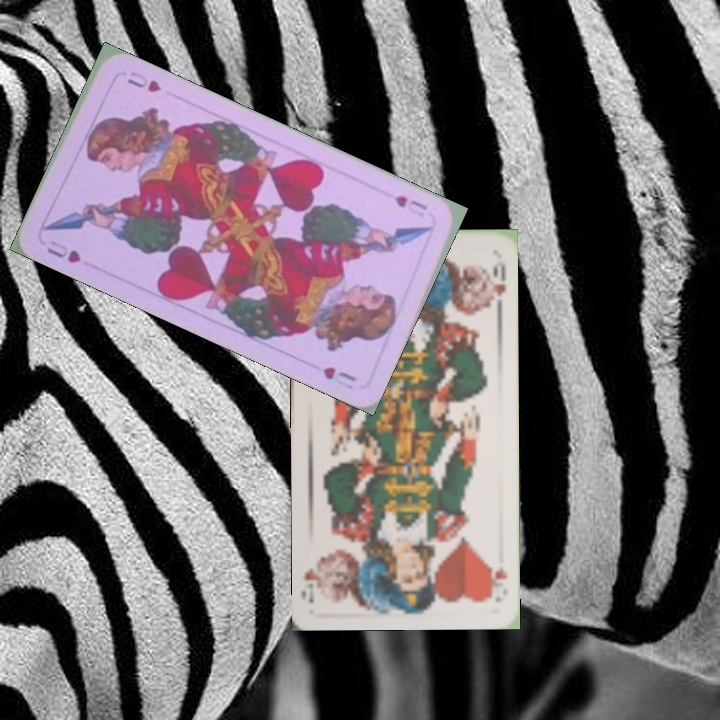HO: (484, 559, 510, 601)
HU: (43, 236, 84, 266), (390, 191, 430, 213)
